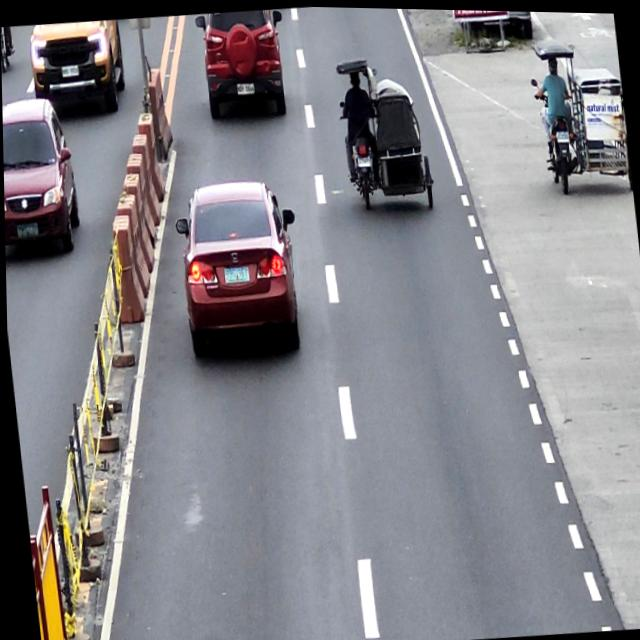Car: (171, 175, 308, 361), (194, 6, 294, 125)
License-Plate: (222, 264, 249, 283), (234, 80, 255, 95), (355, 151, 370, 166), (554, 127, 569, 142)
Tricycle: (526, 28, 632, 195), (334, 49, 438, 216)
